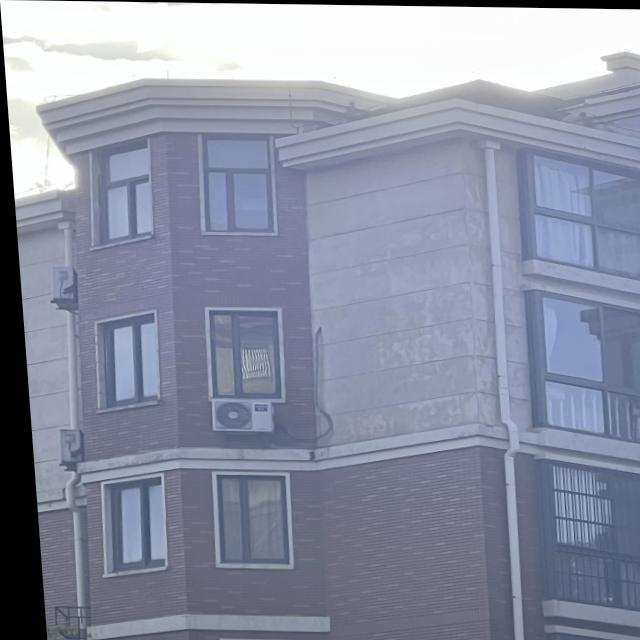damp: (315, 172, 501, 432)
